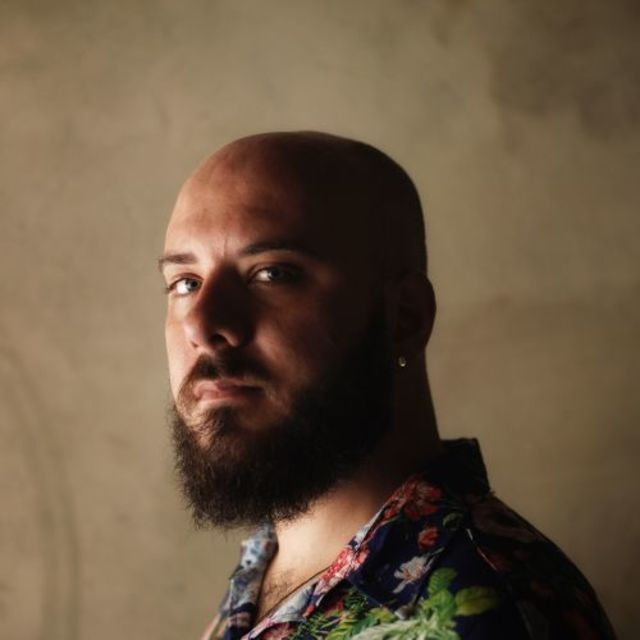human: (163, 161, 390, 475)
